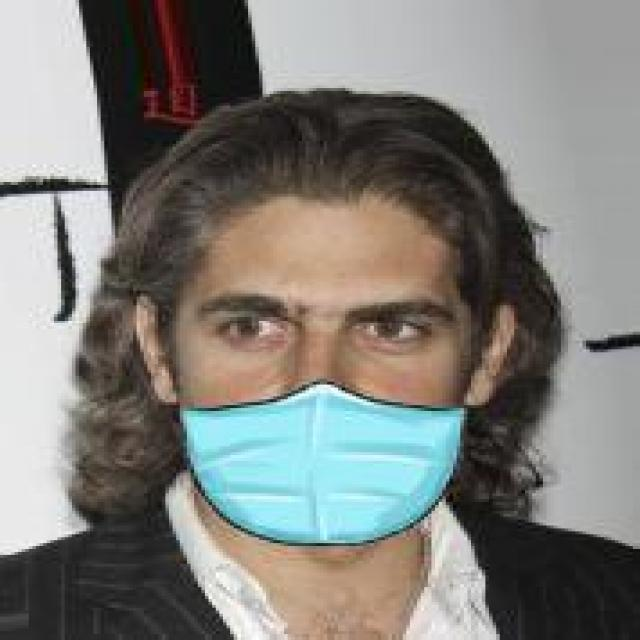mask: (54, 59, 564, 566)
